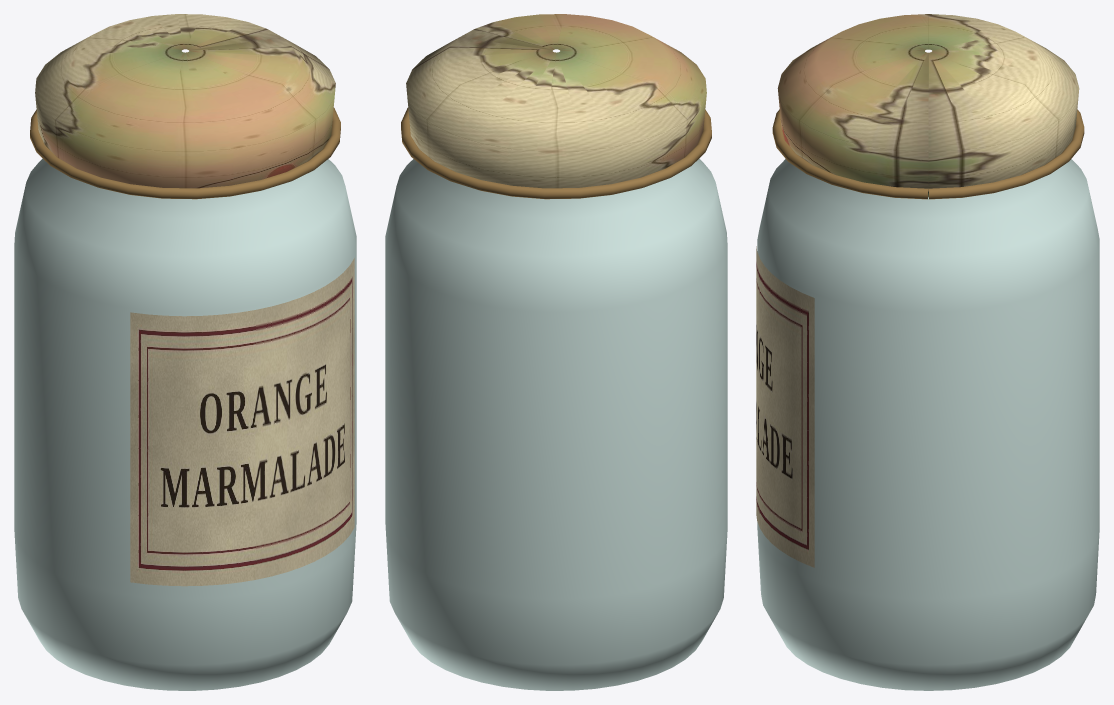
Rendered from prop_jar_marmalade.glb.
The picture shows the model from 3 angles, left to right: view 1: azimuth 30°, elevation 25°; view 2: azimuth 150°, elevation 25°; view 3: azimuth 270°, elevation 25°; orthographic projection.
Visible parts, largest first — view 1: prop_jar_marmalade, Jar_Label; view 2: prop_jar_marmalade; view 3: prop_jar_marmalade, Jar_Label.
Boxes of the visible parts, x1,y1,x2,y2 form: prop_jar_marmalade: (14,14,356,690); Jar_Label: (130,258,354,586); prop_jar_marmalade: (385,14,727,690); prop_jar_marmalade: (757,14,1099,690); Jar_Label: (756,246,814,567).
Bounding box in the file's own units: 0.092 × 0.171 × 0.0923.
5 materials, 2 textured.
